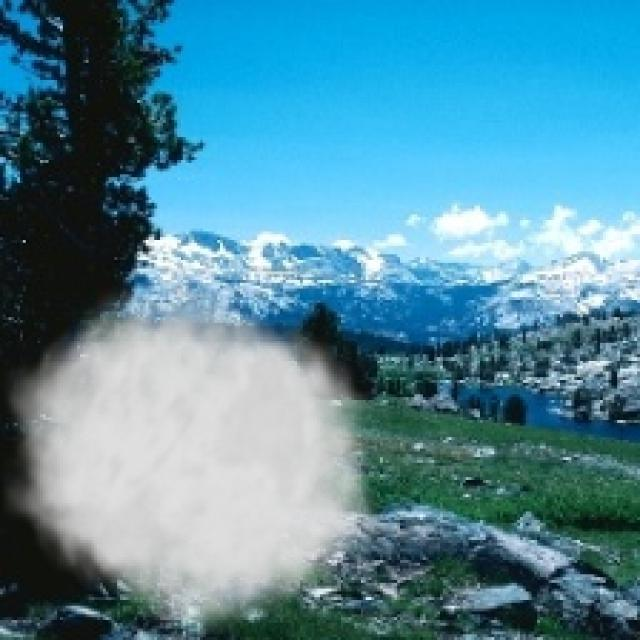Smoke: (2, 268, 394, 638)
